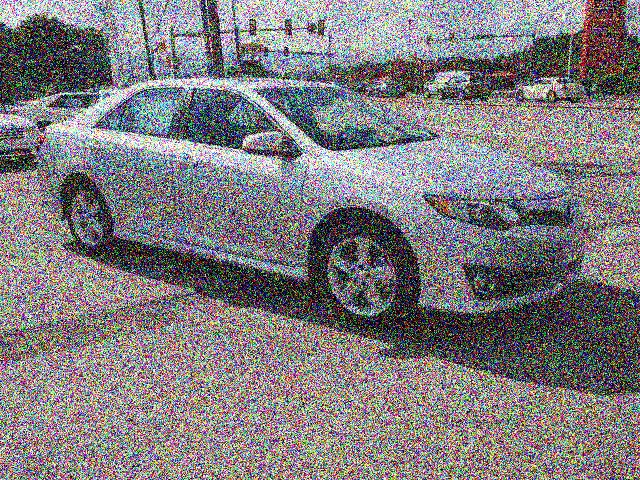car: (23, 69, 640, 346), (509, 67, 591, 113), (438, 59, 494, 111), (363, 71, 420, 98)
